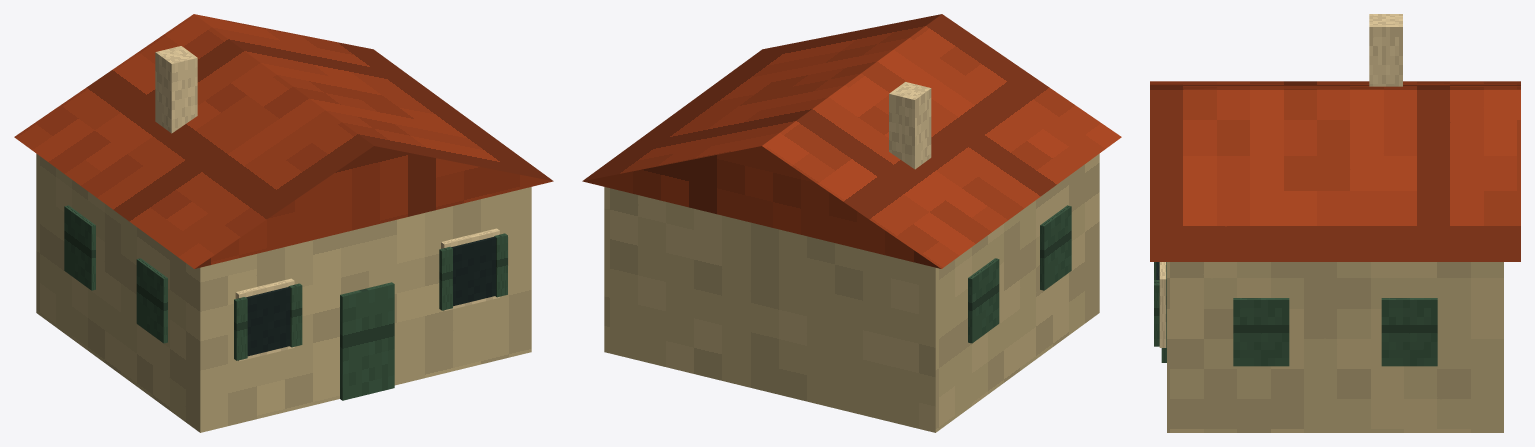
Rendered from Warehouse.fbx.
The picture shows the model from 3 angles, left to right: view 1: azimuth 30°, elevation 25°; view 2: azimuth 150°, elevation 25°; view 3: azimuth 270°, elevation 25°; orthographic projection. The views are drawn at different scales.
Visible parts, largest first — view 1: Telhado duas águas.019, Paredes.019, Porta.019, Chaminé.017, Janela.054, Janela.055, Janela lateral.076, Janela lateral.077, Veneziana.108, Veneziana.110, Veneziana.109, Veneziana.111 (+2 smaller); view 2: Paredes.019, Telhado duas águas.019, Chaminé.017, Janela lateral.077, Janela lateral.076; view 3: Telhado duas águas.019, Paredes.019, Janela lateral.078, Janela lateral.079, Chaminé.017, Moldura.055, Veneziana.111.
Boxes of the visible parts, left/top/right/bottom form: Telhado duas águas.019: left=14, top=14, right=553, bottom=268; Paredes.019: left=36, top=154, right=531, bottom=432; Porta.019: left=340, top=282, right=394, bottom=400; Chaminé.017: left=155, top=46, right=197, bottom=133; Janela.054: left=246, top=287, right=290, bottom=356; Janela.055: left=451, top=237, right=495, bottom=306; Janela lateral.076: left=136, top=258, right=167, bottom=343; Janela lateral.077: left=64, top=205, right=95, bottom=290; Veneziana.108: left=234, top=297, right=247, bottom=360; Veneziana.110: left=439, top=247, right=452, bottom=310; Veneziana.109: left=288, top=283, right=302, bottom=347; Veneziana.111: left=494, top=233, right=507, bottom=297; Paredes.019: left=604, top=154, right=1099, bottom=432; Telhado duas águas.019: left=582, top=14, right=1121, bottom=268; Chaminé.017: left=889, top=82, right=931, bottom=169; Janela lateral.077: left=968, top=258, right=999, bottom=343; Janela lateral.076: left=1040, top=205, right=1071, bottom=290; Telhado duas águas.019: left=1150, top=81, right=1520, bottom=261; Paredes.019: left=1167, top=262, right=1503, bottom=432; Janela lateral.078: left=1233, top=298, right=1289, bottom=366; Janela lateral.079: left=1381, top=298, right=1437, bottom=366; Chaminé.017: left=1369, top=14, right=1402, bottom=86; Moldura.055: left=1159, top=262, right=1166, bottom=347; Veneziana.111: left=1154, top=280, right=1159, bottom=346.
Size of the model in its own units: 760 by 565 by 660.
5 materials, 5 textured.
